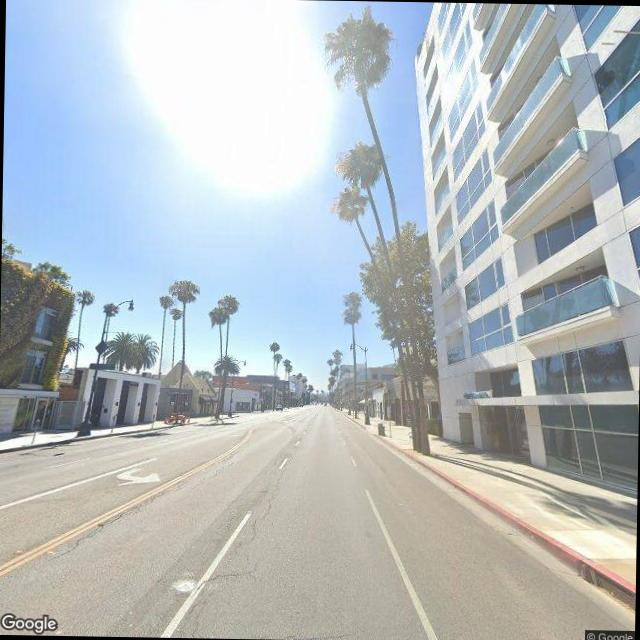pothole: (55, 478, 184, 552), (225, 464, 292, 550)
